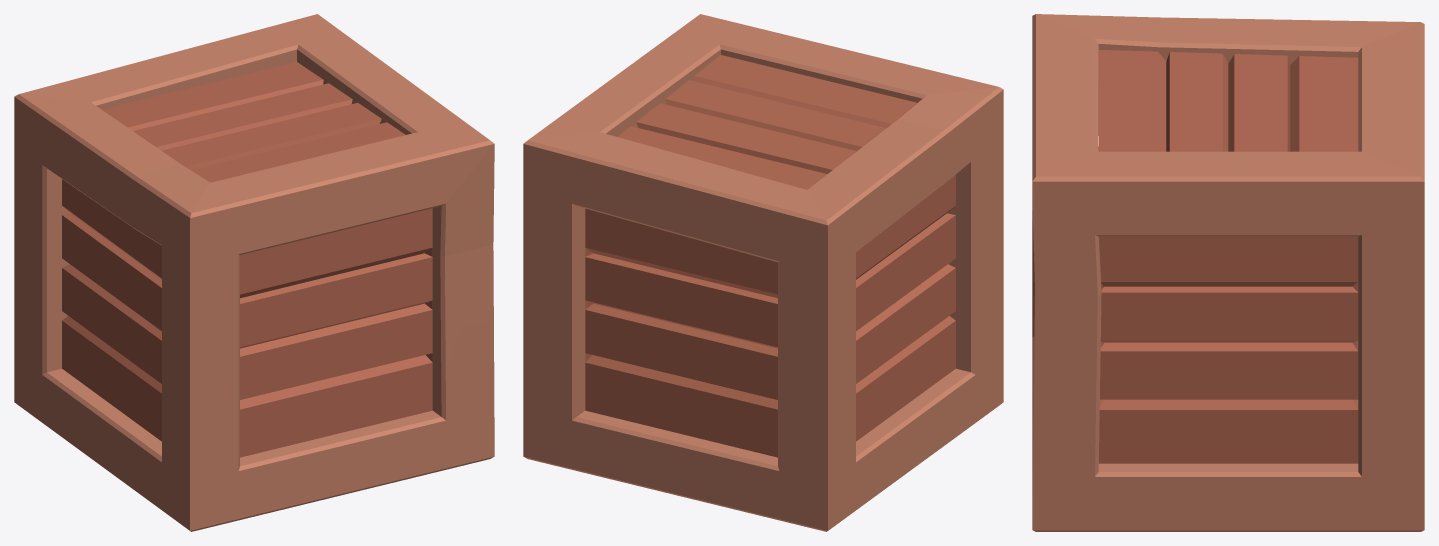
The model's file is Boxes.fbx.
3 views of the same model, side by side, from view 1: azimuth 30°, elevation 25°; view 2: azimuth 150°, elevation 25°; view 3: azimuth 270°, elevation 25° (orthographic). The views are drawn at different scales.
Parts seen in each view (by area): view 1: Cube.001, Cube.002; view 2: Cube.001, Cube.002; view 3: Cube.001, Cube.002.
Boxes of the visible parts, x1,y1,x2,y2 form: Cube.001: (14,14,494,531); Cube.002: (62,62,432,457); Cube.001: (523,14,1003,531); Cube.002: (585,55,955,457); Cube.001: (1032,14,1424,531); Cube.002: (1098,49,1358,463).
Size of the model in its own units: 137 by 137 by 137.
